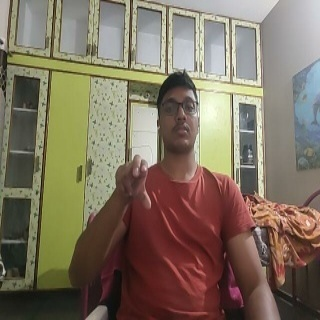No: (115, 154, 152, 212)
